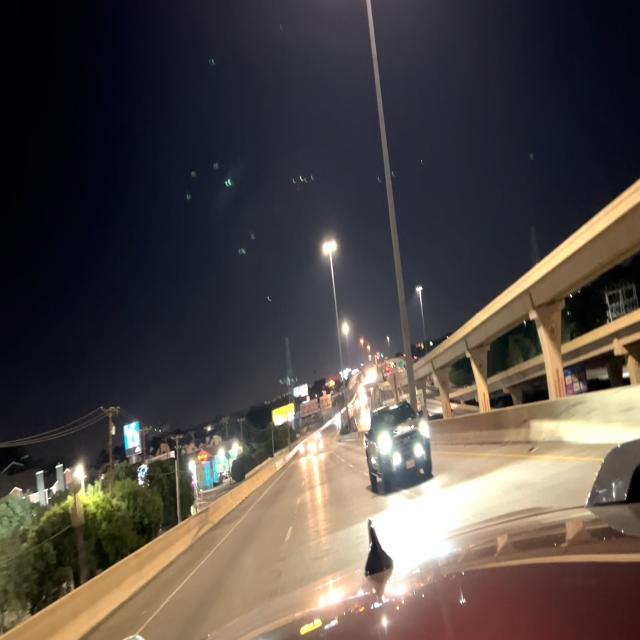back-of-sign: (299, 394, 333, 418), (388, 363, 403, 395)
